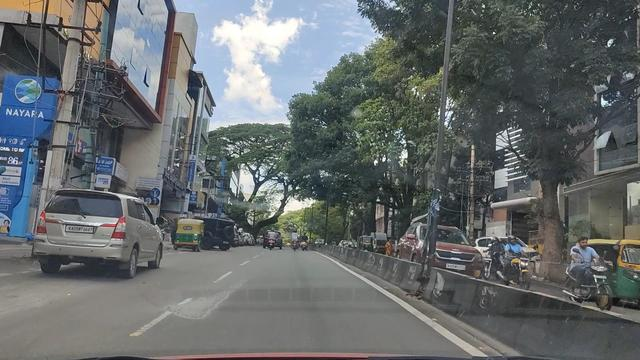LMV: (39, 173, 164, 285)
RoadDamages: (162, 292, 232, 331)
